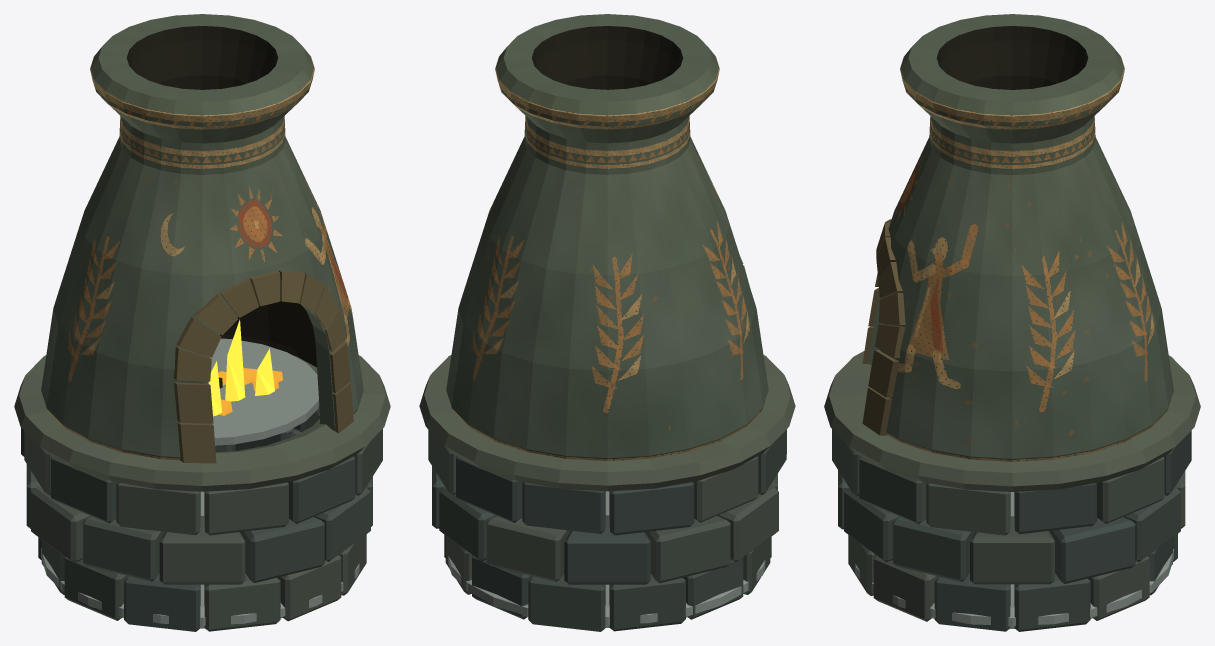
Rendered from Fresco_Furnace.fbx.
The picture shows the model from 3 angles, left to right: view 1: azimuth 30°, elevation 25°; view 2: azimuth 150°, elevation 25°; view 3: azimuth 270°, elevation 25°; orthographic projection.
Parts seen in each view (by area): view 1: Furnace_PlasteredShell, Furnace_Masonry, Furnace_HearthRim, Furnace_OchreArch, Furnace_EmberPan, Furnace_Flames, Furnace_Foot, Furnace_Coals; view 2: Furnace_PlasteredShell, Furnace_Masonry, Furnace_HearthRim, Furnace_Foot; view 3: Furnace_PlasteredShell, Furnace_Masonry, Furnace_HearthRim, Furnace_OchreArch, Furnace_Foot.
Part boxes in pixels (left/top/right/bottom): Furnace_PlasteredShell: left=41, top=14, right=363, bottom=460; Furnace_Masonry: left=21, top=406, right=382, bottom=631; Furnace_HearthRim: left=14, top=355, right=390, bottom=491; Furnace_OchreArch: left=173, top=270, right=353, bottom=463; Furnace_EmberPan: left=210, top=338, right=319, bottom=445; Furnace_Flames: left=208, top=319, right=274, bottom=416; Furnace_Foot: left=41, top=491, right=359, bottom=628; Furnace_Coals: left=218, top=368, right=282, bottom=415; Furnace_PlasteredShell: left=446, top=14, right=768, bottom=460; Furnace_Masonry: left=428, top=429, right=786, bottom=631; Furnace_HearthRim: left=419, top=355, right=795, bottom=491; Furnace_Foot: left=448, top=491, right=765, bottom=627; Furnace_PlasteredShell: left=868, top=14, right=1173, bottom=461; Furnace_Masonry: left=832, top=429, right=1191, bottom=631; Furnace_HearthRim: left=824, top=351, right=1200, bottom=491; Furnace_OchreArch: left=862, top=219, right=905, bottom=435; Furnace_Foot: left=855, top=492, right=1173, bottom=628.
Bounding box in the file's own units: 154 × 230 × 154.
